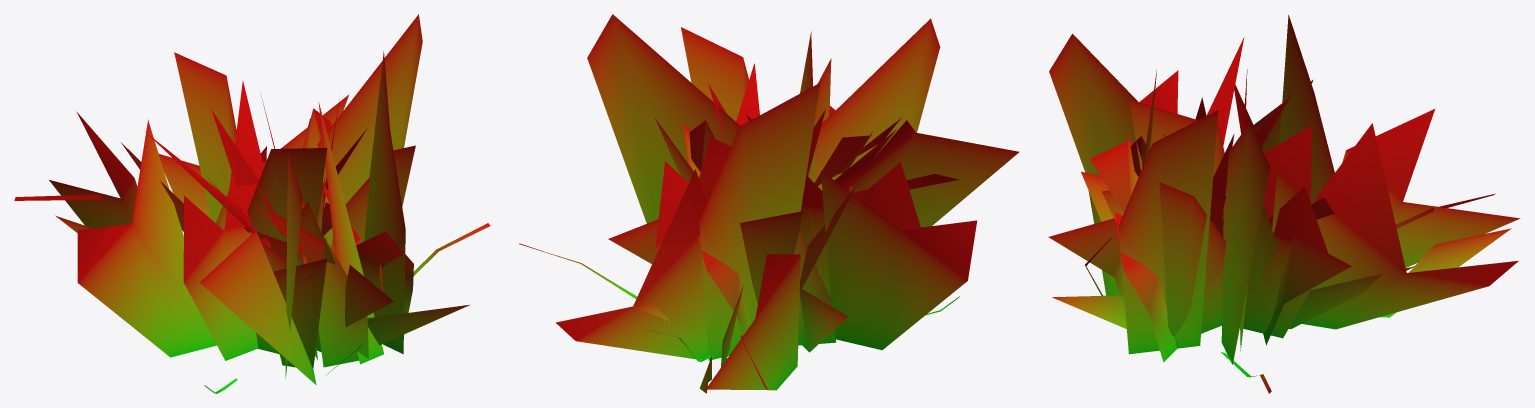
Rendered from Tundra Grass_LOD6_Var28_wk2oaeyqx.fbx.
3 renders of one model, left to right at view 1: azimuth 30°, elevation 25°; view 2: azimuth 150°, elevation 25°; view 3: azimuth 270°, elevation 25°, orthographic. The views are drawn at different scales.
Parts seen in each view (by area): view 1: _ksv0_Var28_LOD6; view 2: _ksv0_Var28_LOD6; view 3: _ksv0_Var28_LOD6.
Part boxes in pixels (box(x1,y1,x2,y2)): _ksv0_Var28_LOD6: box(14, 14, 490, 393); _ksv0_Var28_LOD6: box(519, 14, 1019, 393); _ksv0_Var28_LOD6: box(1048, 15, 1520, 393).
Size of the model in its own units: 31.03 by 19.19 by 30.24.
